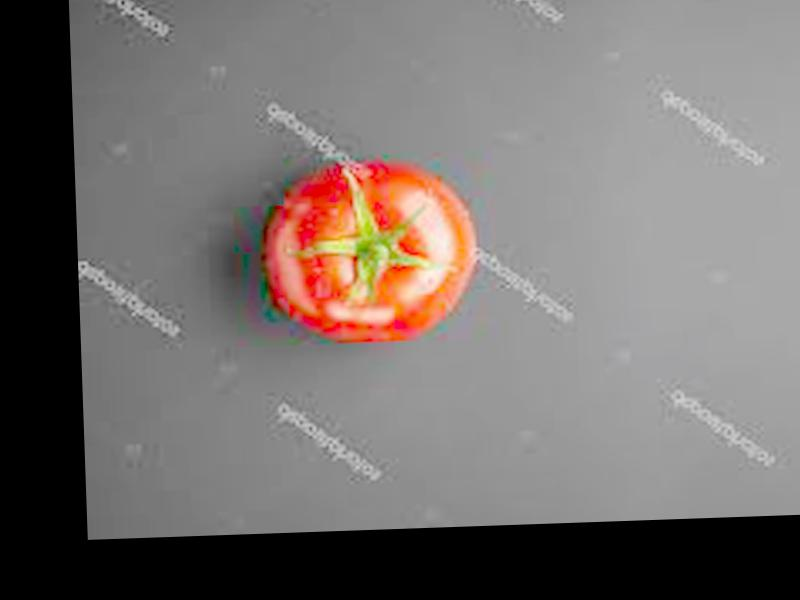Tomato: (264, 156, 483, 348)
